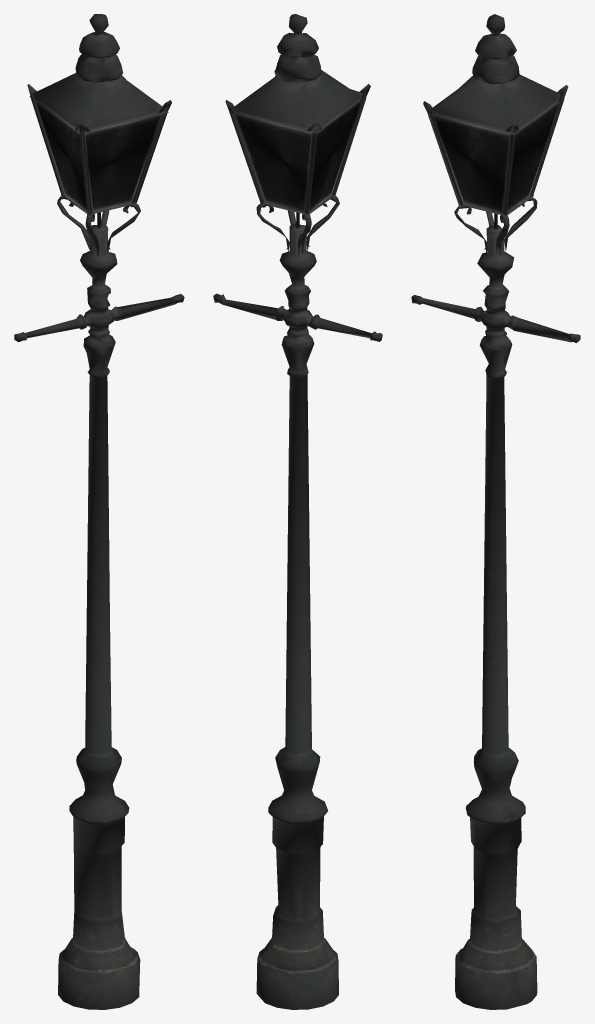
The model's file is ph_street_lamp_01.glb.
The picture shows the model from 3 angles, left to right: view 1: azimuth 30°, elevation 25°; view 2: azimuth 150°, elevation 25°; view 3: azimuth 330°, elevation 25°; orthographic projection.
Parts seen in each view (by area): view 1: street_lamp_01; view 2: street_lamp_01; view 3: street_lamp_01.
Part boxes in pixels (<box>): street_lamp_01: <box>14,14,184,1009</box>; street_lamp_01: <box>213,14,382,1009</box>; street_lamp_01: <box>411,14,580,1009</box>.
Size of the model in its own units: 0.6965 by 3.87 by 0.3855.
Materials: 2 (2 with a texture image).
